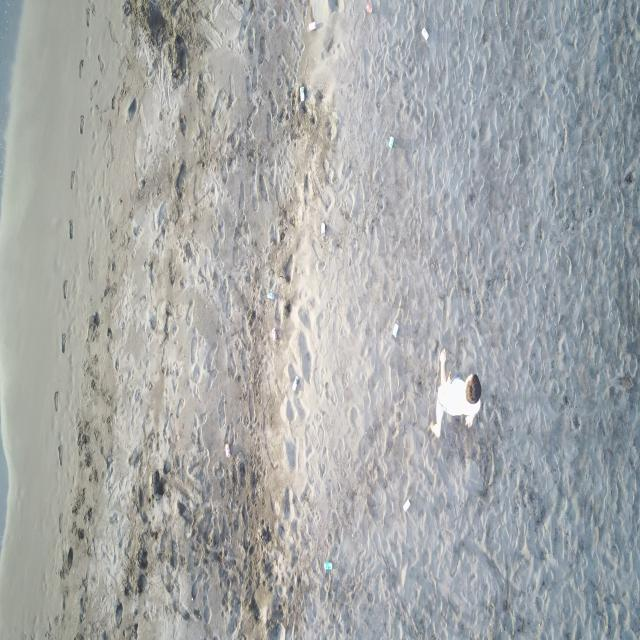Garbage: (308, 20, 318, 31), (364, 0, 372, 13), (324, 560, 332, 572), (420, 27, 427, 40), (292, 377, 299, 390), (267, 289, 275, 300), (272, 327, 278, 340), (224, 443, 230, 456), (387, 136, 393, 148), (403, 499, 409, 511), (392, 323, 397, 336), (300, 85, 304, 101), (320, 221, 324, 235)
